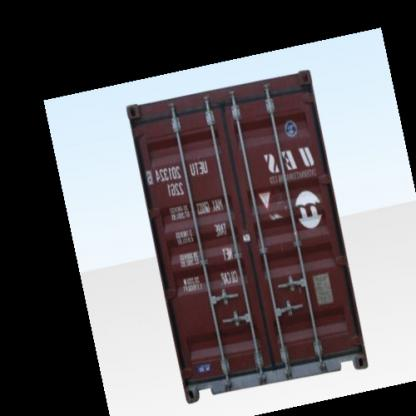Damage: (266, 186, 292, 233), (252, 82, 312, 101)
